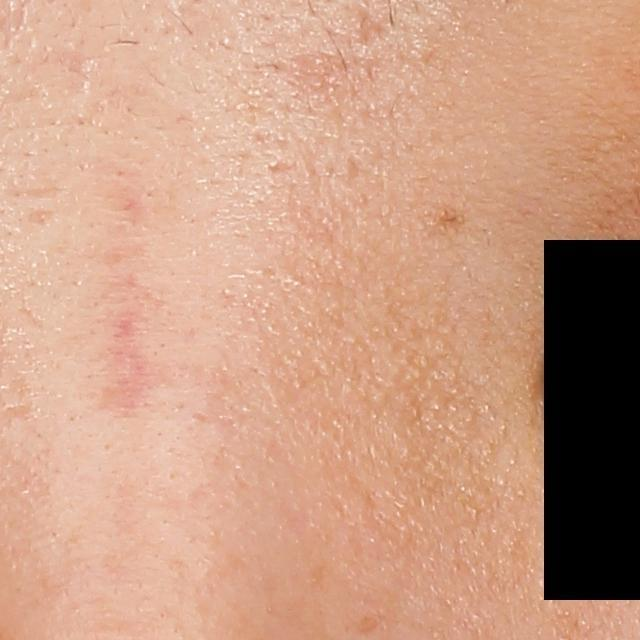atrophic_scar: (283, 48, 353, 106), (352, 1, 394, 49)
melasma: (350, 613, 385, 637)
